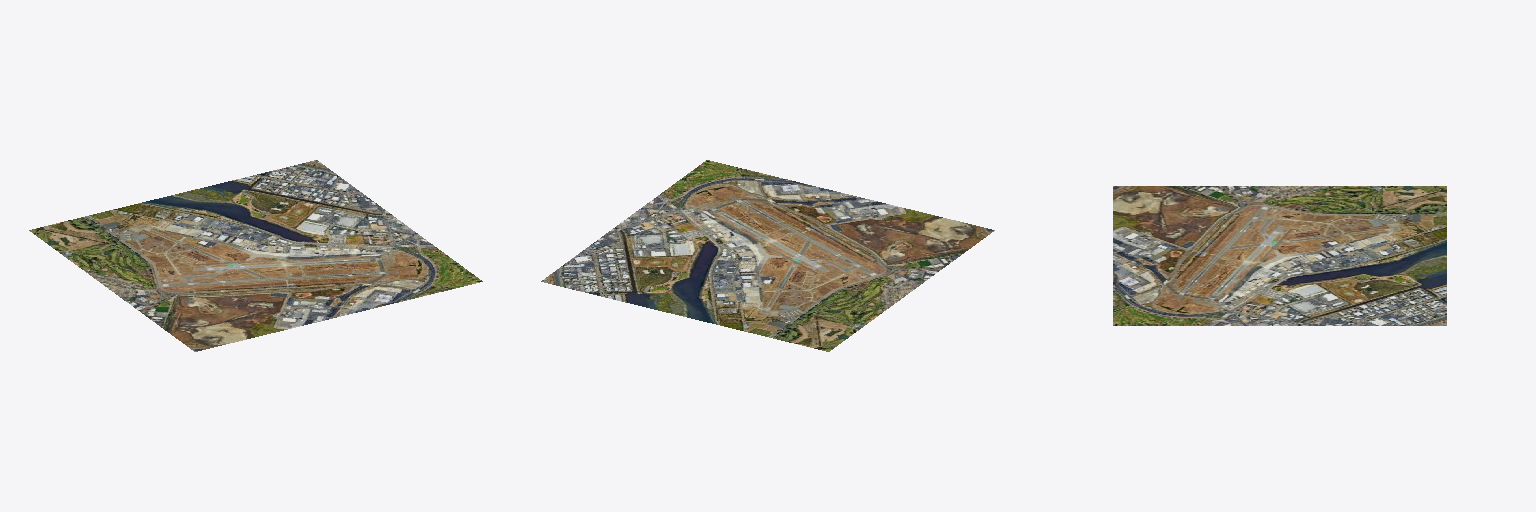
3 views of the same model, side by side, from view 1: azimuth 30°, elevation 25°; view 2: azimuth 150°, elevation 25°; view 3: azimuth 270°, elevation 25° (orthographic).
Visible parts, largest first — view 1: Grid; view 2: Grid; view 3: Grid.
Boxes of the visible parts, box(x1,y1,x2,y2) form: Grid: box(29, 160, 482, 351); Grid: box(541, 160, 994, 351); Grid: box(1113, 186, 1446, 325).
Size of the model in its own units: 8 by 0 by 8.
1 materials, 1 textured.